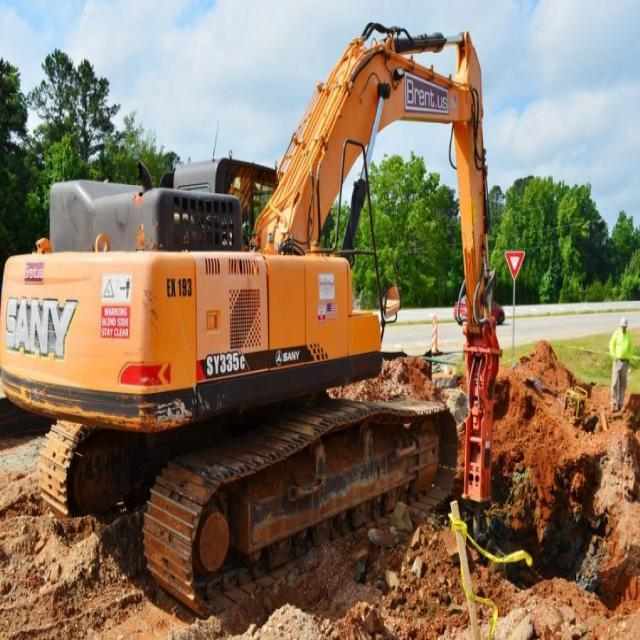C_E: (1, 20, 506, 620)
